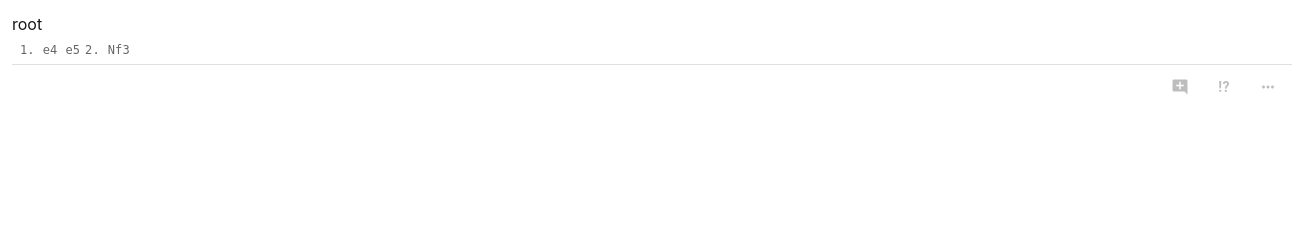
Test: Delete move (desktop menu) › is the first item of the move menu
Right-click the text "e5" at coordinates (73, 50), box [65,43,80,57]
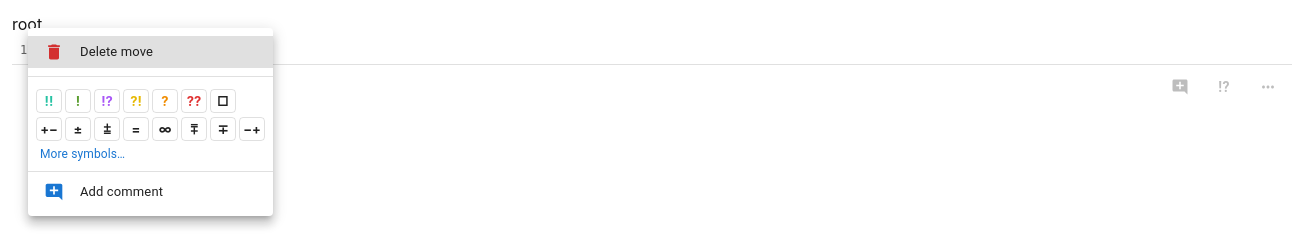
Now the menu item "Delete move" is shown, box [28,36,273,68]
